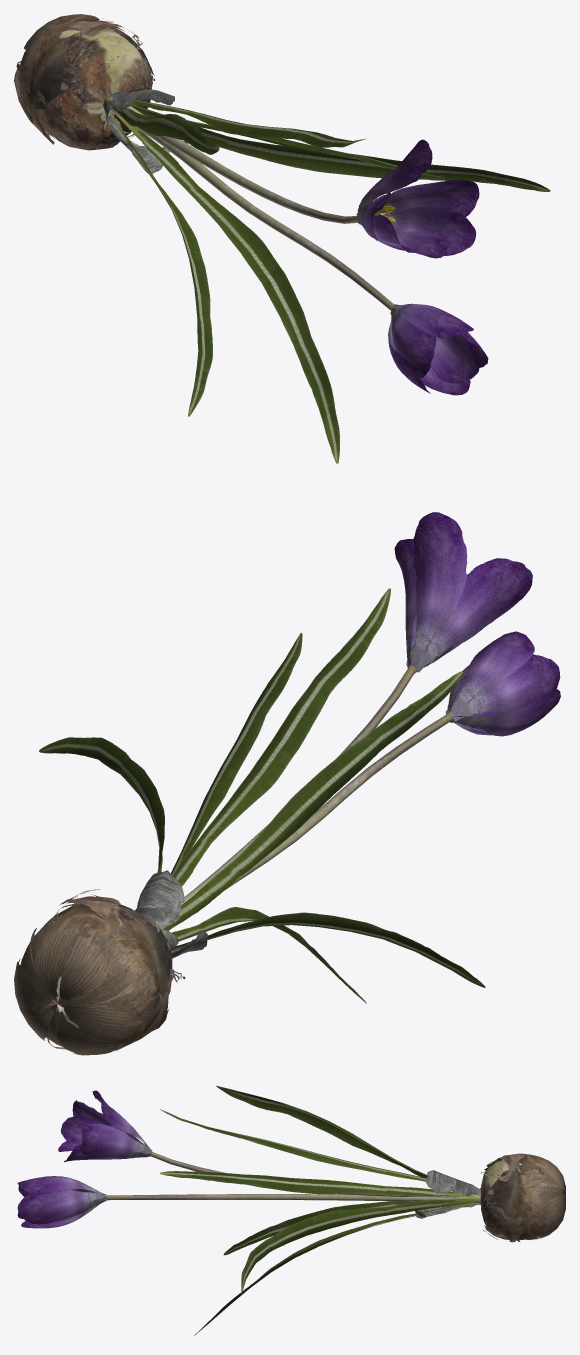
The picture shows the model from 3 angles, top to bottom: view 1: azimuth 30°, elevation 25°; view 2: azimuth 150°, elevation 25°; view 3: azimuth 270°, elevation 25°; orthographic projection. The views are drawn at different scales.
Parts seen in each view (by area): view 1: FL43Leaf2, FL43Petal1, FL43Roots1, FL43Branch1, FL43Leaf5, FL43Leaf6, FL43Leaf3, FL43Leaf4; view 2: FL43Leaf2, FL43Petal1, FL43Leaf6, FL43Leaf5, FL43Branch1, FL43Leaf4, FL43Roots1; view 3: FL43Leaf2, FL43Petal1, FL43Leaf6, FL43Leaf5, FL43Branch1, FL43Roots1, FL43Leaf4, FL43Leaf3.
Part boxes in pixels (x1,y1,x2,y2): FL43Leaf2: (108,96,550,463); FL43Petal1: (356,139,488,395); FL43Roots1: (28,28,152,149); FL43Branch1: (110,97,397,310); FL43Leaf5: (18,20,155,150); FL43Leaf6: (14,14,150,144); FL43Leaf3: (103,99,188,173); FL43Leaf4: (110,89,174,111); FL43Leaf2: (39,588,485,1003); FL43Petal1: (394,512,560,736); FL43Leaf6: (14,889,185,1055); FL43Leaf5: (20,905,172,1046); FL43Branch1: (168,665,453,930); FL43Leaf4: (135,870,184,932); FL43Roots1: (31,904,171,1028); FL43Leaf2: (160,1085,480,1335); FL43Petal1: (17,1090,152,1228); FL43Leaf6: (479,1153,565,1242); FL43Leaf5: (484,1157,563,1239); FL43Branch1: (106,1151,480,1203); FL43Roots1: (480,1158,522,1238); FL43Leaf4: (425,1170,480,1195); FL43Leaf3: (415,1203,480,1218).
Bounding box in the file's own units: 0.0945 × 0.0878 × 0.171.
Materials: 9 (9 with a texture image).
